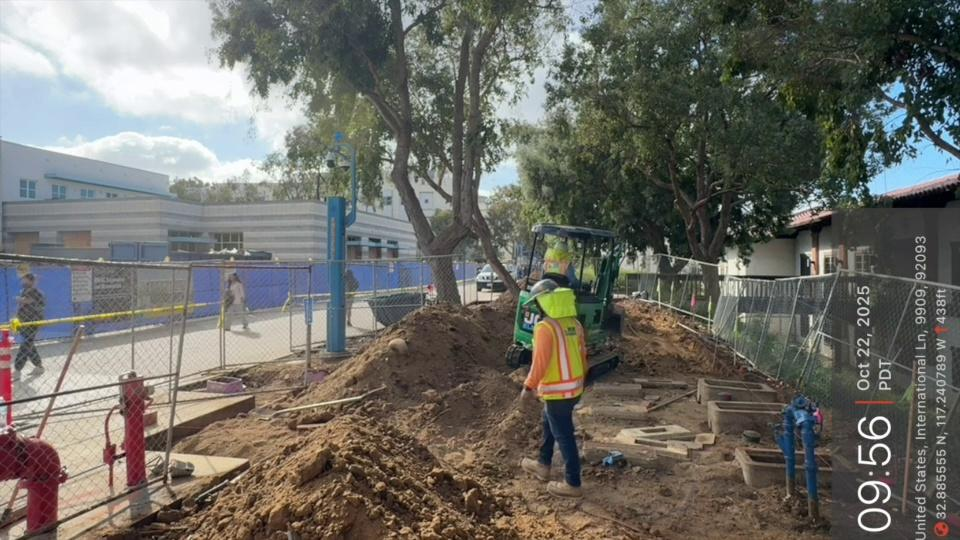Exacavator: (503, 221, 625, 381)
